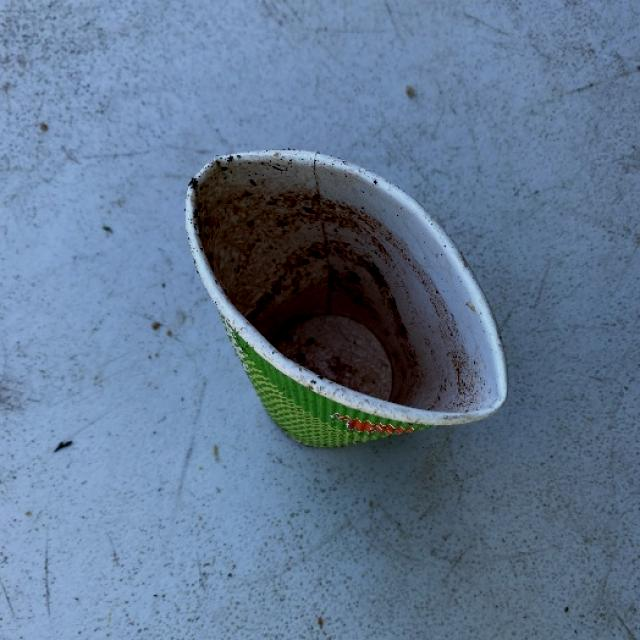styrofoam: (201, 144, 525, 487)
